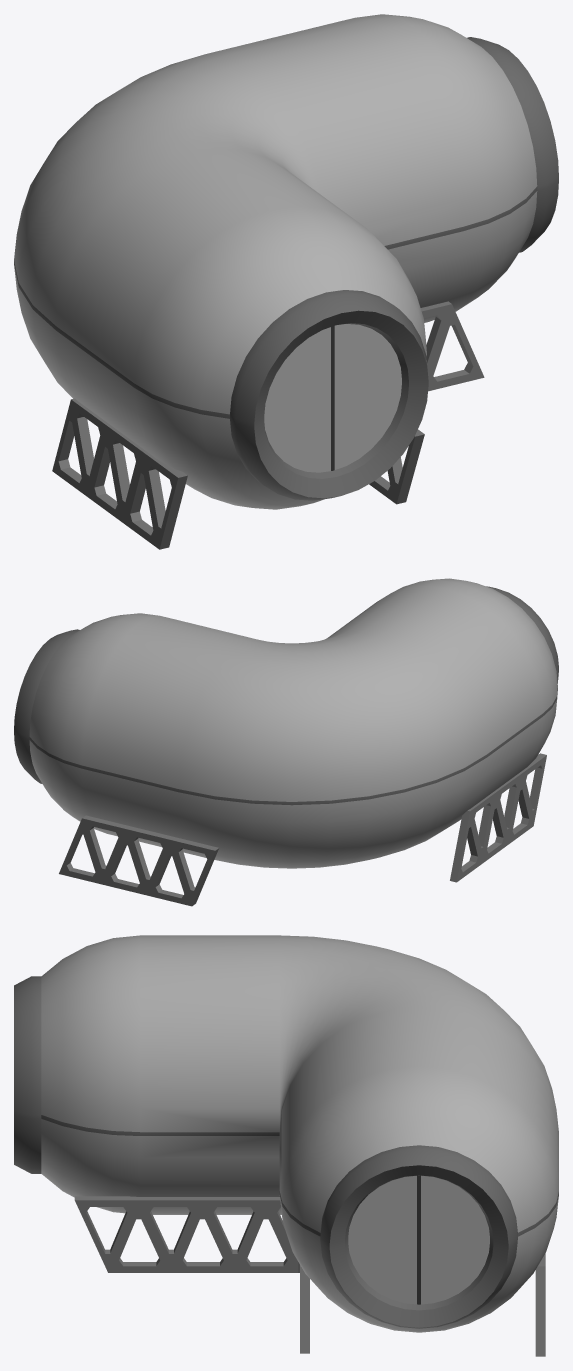
The model's file is Building L.glb.
3 renders of one model, top to bottom at view 1: azimuth 30°, elevation 25°; view 2: azimuth 150°, elevation 25°; view 3: azimuth 270°, elevation 25°, orthographic. The views are drawn at different scales.
Parts seen in each view (by area): view 1: Building_L; view 2: Building_L; view 3: Building_L.
Part boxes in pixels (x1,y1,x2,y2): Building_L: [14, 14, 558, 549]; Building_L: [14, 578, 558, 906]; Building_L: [14, 935, 558, 1356].
Bounding box in the file's own units: 7.8 × 4.31 × 7.79.
Materials: 1 (1 with a texture image).
